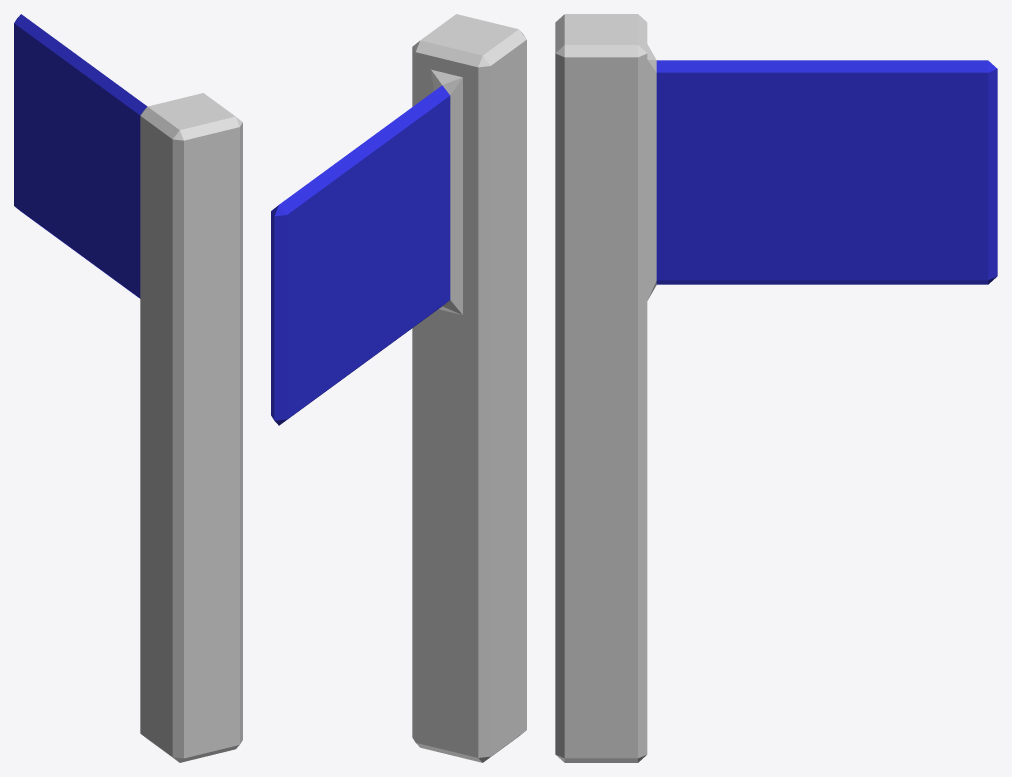
The model's file is flag.fbx.
The picture shows the model from 3 angles, left to right: view 1: azimuth 30°, elevation 25°; view 2: azimuth 150°, elevation 25°; view 3: azimuth 270°, elevation 25°; orthographic projection. The views are drawn at different scales.
Visible parts, largest first — view 1: Cube; view 2: Cube; view 3: Cube.
Part boxes in pixels (<box>): Cube: <box>14,14,242,762</box>; Cube: <box>271,14,526,762</box>; Cube: <box>555,14,997,762</box>.
Bounding box in the file's own units: 40.29 × 347 × 194.
